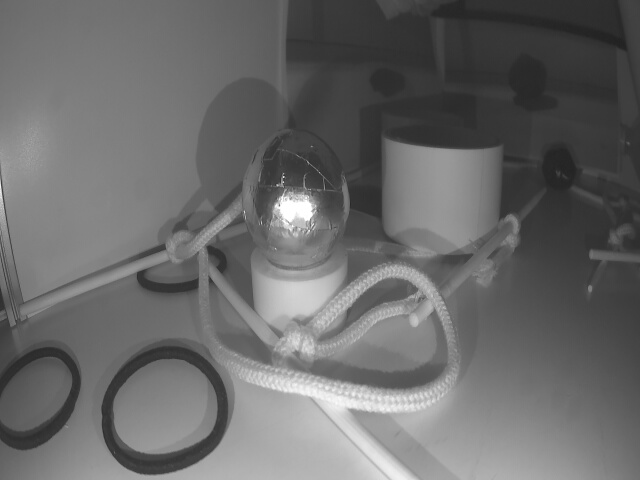Dead: (544, 147, 571, 188)
Live: (244, 132, 348, 264)
